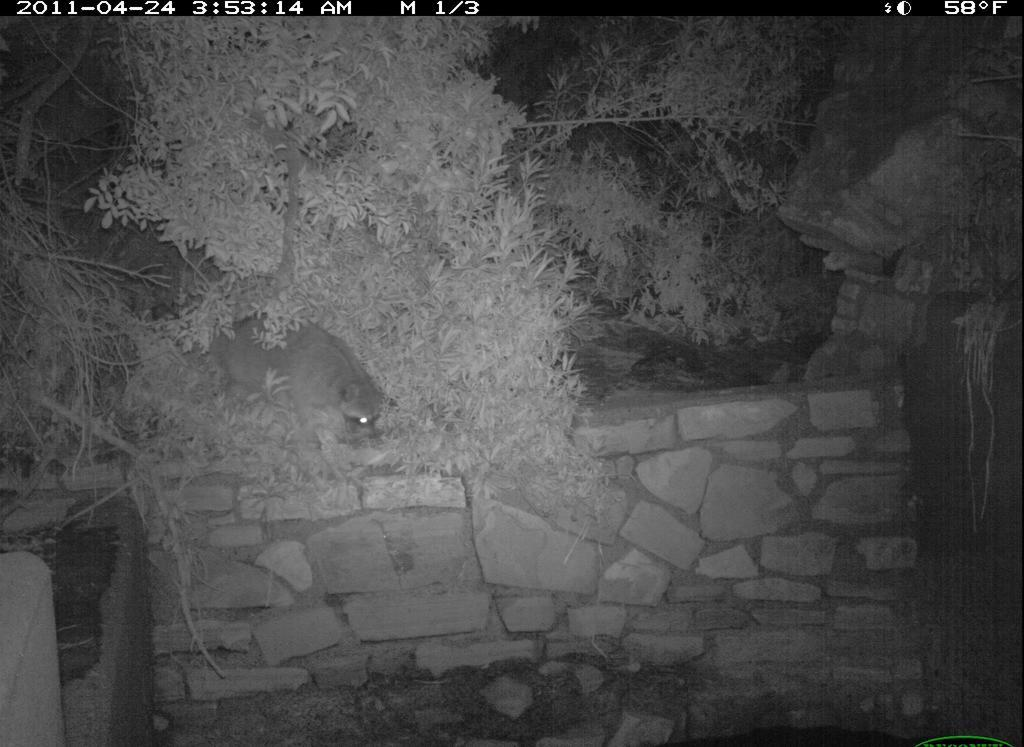raccoon: (208, 322, 401, 457)
